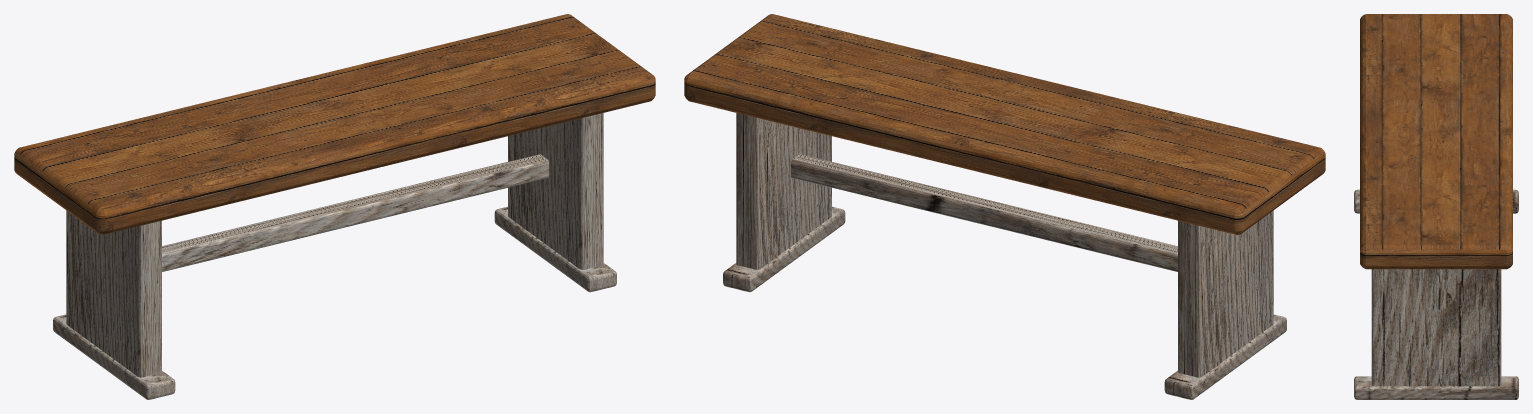
The model's file is bench-v01.glb.
The picture shows the model from 3 angles, left to right: view 1: azimuth 30°, elevation 25°; view 2: azimuth 150°, elevation 25°; view 3: azimuth 270°, elevation 25°; orthographic projection. The views are drawn at different scales.
Visible parts, largest first — view 1: bench; view 2: bench; view 3: bench.
Boxes of the visible parts, <box> form: bench: <box>14,14,655,399</box>; bench: <box>684,14,1325,399</box>; bench: <box>1354,14,1518,399</box>.
Bounding box in the file's own units: 1.9 × 0.645 × 0.56.
2 materials, 2 textured.
